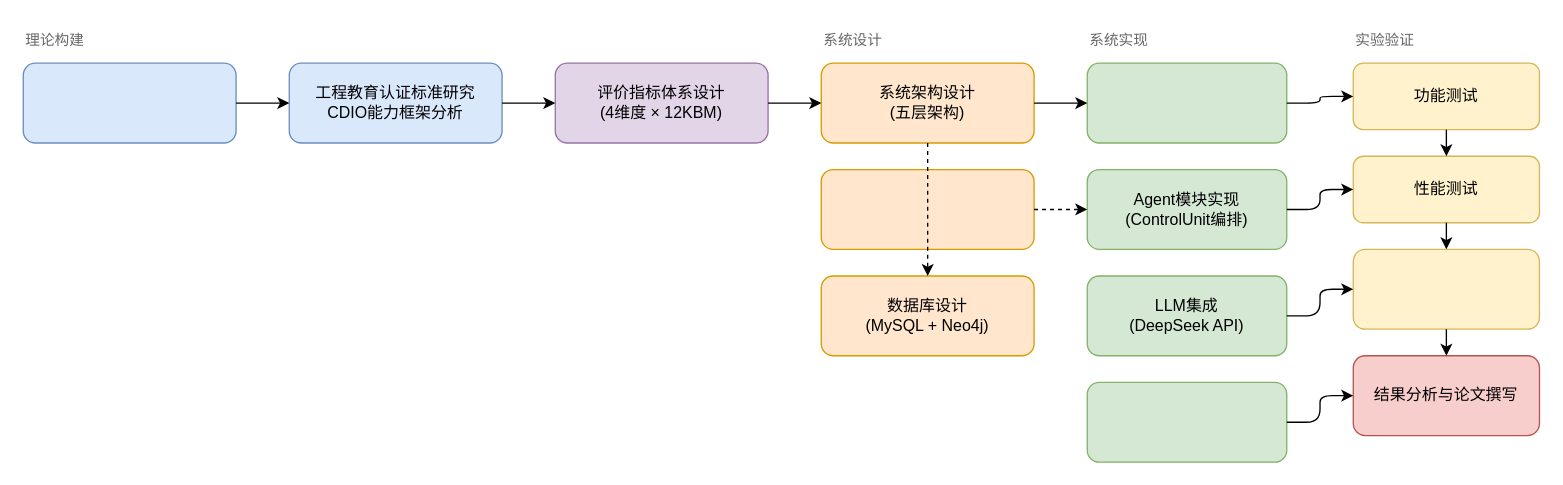
This 1563x485 diagram has some shape labels left out. The shapes that lost their labels are listed below. From the top down, each one's box as (x1, y1, x2, y2) in pixels, then its label:
(22, 62, 236, 143): 文献调研与分析
(1086, 62, 1287, 143): 后端开发 (Go + Gin + GORM)
(820, 168, 1034, 249): 多智能体架构设计
(1352, 248, 1539, 329): AI评价合理性验证 (Pearson/Kappa/RMSE)
(1086, 381, 1287, 462): 前端开发 (Vue3 + ECharts)
